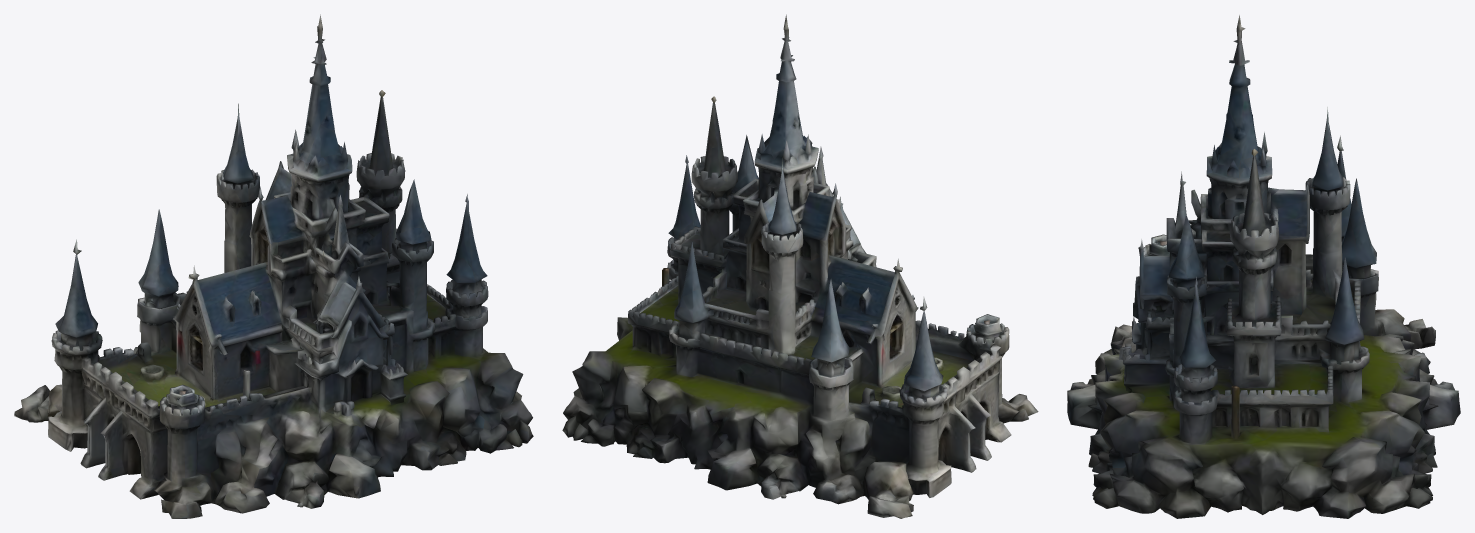
The model's file is royalcastle2.glb.
3 views of the same model, side by side, from view 1: azimuth 30°, elevation 25°; view 2: azimuth 150°, elevation 25°; view 3: azimuth 270°, elevation 25° (orthographic). The views are drawn at different scales.
Parts seen in each view (by area): view 1: tripo_node_eda46246-ed91-4de3-ac95-76bf69122d3a; view 2: tripo_node_eda46246-ed91-4de3-ac95-76bf69122d3a; view 3: tripo_node_eda46246-ed91-4de3-ac95-76bf69122d3a.
Part boxes in pixels (x1,y1,x2,y2): tripo_node_eda46246-ed91-4de3-ac95-76bf69122d3a: (14, 14, 533, 518); tripo_node_eda46246-ed91-4de3-ac95-76bf69122d3a: (562, 14, 1038, 518); tripo_node_eda46246-ed91-4de3-ac95-76bf69122d3a: (1067, 15, 1460, 518).
Size of the model in its own units: 0.9876 by 1 by 0.8409.
1 material, 1 textured.
